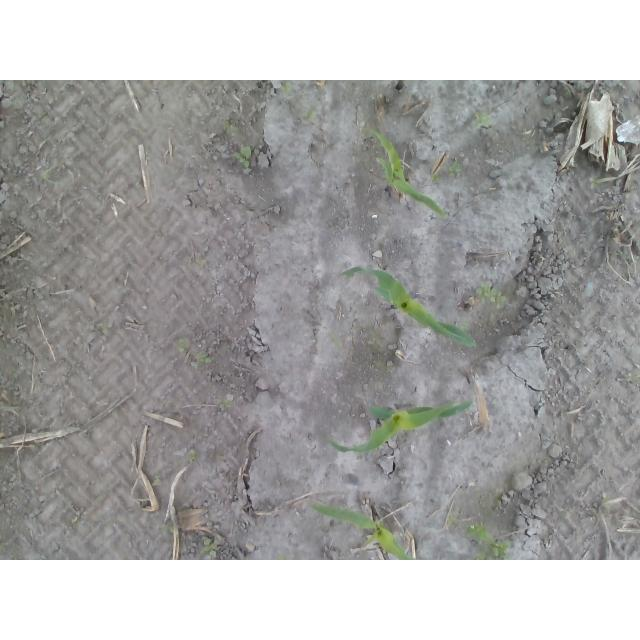Maize: (341, 265, 476, 347), (360, 124, 449, 219), (328, 399, 473, 454), (310, 498, 419, 560)
Weeds: (465, 521, 512, 560), (476, 280, 509, 308), (233, 146, 251, 167), (41, 168, 60, 185), (472, 112, 489, 129), (201, 539, 217, 557), (193, 351, 211, 367), (71, 508, 89, 522), (449, 160, 463, 176), (304, 105, 317, 120), (589, 176, 604, 188), (602, 492, 613, 508), (223, 121, 238, 132), (216, 398, 232, 408), (329, 333, 340, 347), (178, 339, 187, 354), (446, 513, 457, 525), (162, 523, 175, 533), (626, 373, 640, 382), (281, 83, 292, 94), (187, 449, 197, 461), (279, 554, 294, 560), (460, 322, 470, 331), (153, 476, 161, 485), (431, 173, 441, 180), (38, 111, 46, 118), (0, 543, 6, 549), (29, 444, 36, 449)
